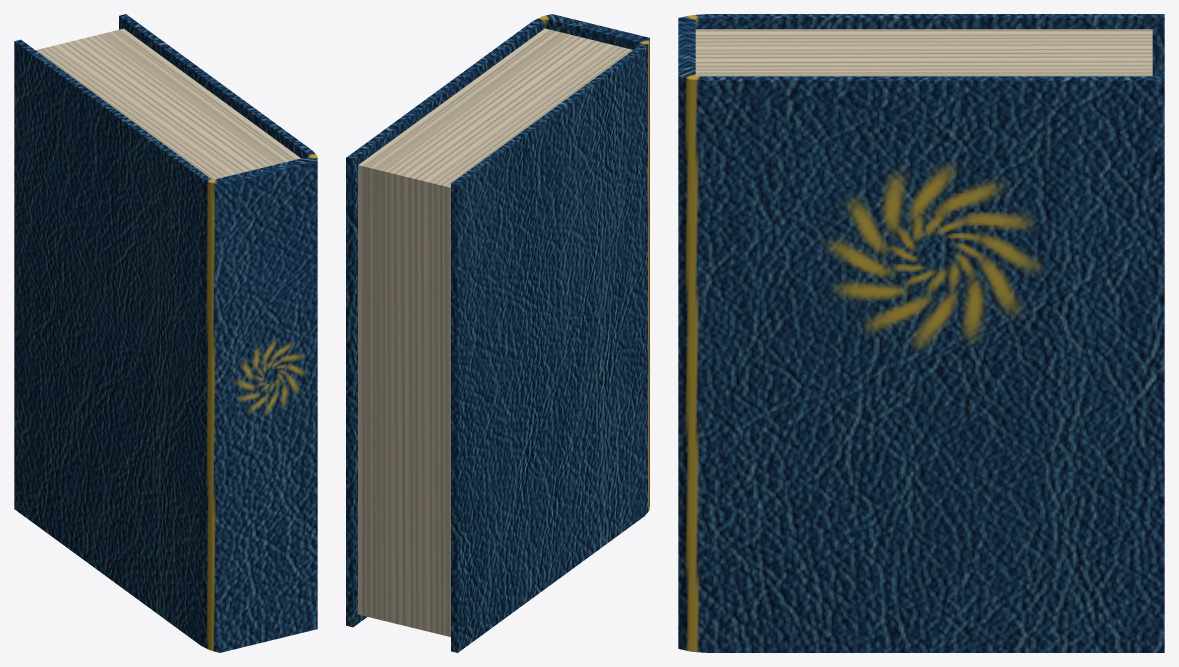
Rendered from book_blue.fbx.
3 renders of one model, left to right at view 1: azimuth 30°, elevation 25°; view 2: azimuth 150°, elevation 25°; view 3: azimuth 270°, elevation 25°, orthographic. The views are drawn at different scales.
Parts seen in each view (by area): view 1: book_blue1; view 2: book_blue1; view 3: book_blue1.
Part boxes in pixels (x1,y1,x2,y2): book_blue1: (14, 14, 317, 652); book_blue1: (346, 14, 649, 652); book_blue1: (678, 14, 1164, 652).
Size of the model in its own units: 8.26 by 33.03 by 25.44.
